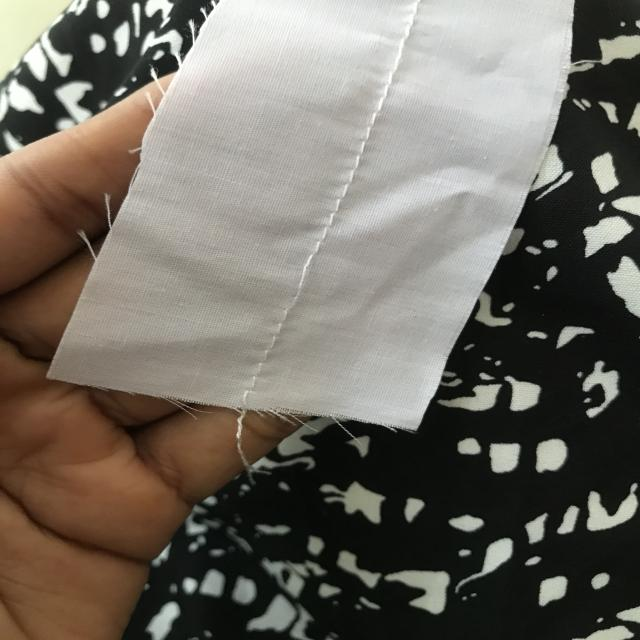skip: (269, 241, 343, 320)
